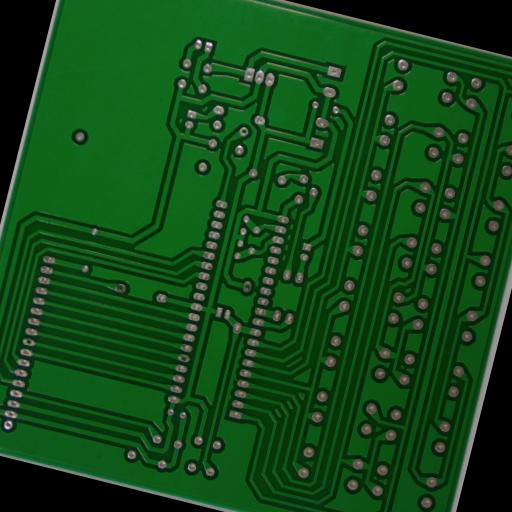missing_hole: (244, 282, 251, 290), (181, 354, 188, 361), (118, 284, 124, 291), (241, 128, 248, 134), (26, 338, 32, 344)
